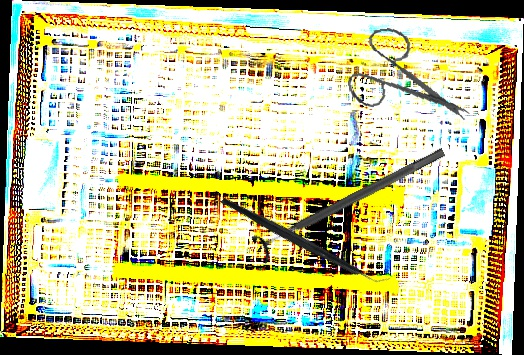Chopper: (219, 150, 392, 330)
Fixation Ring: (250, 137, 452, 266)
Iris Scissors: (340, 17, 473, 138)
